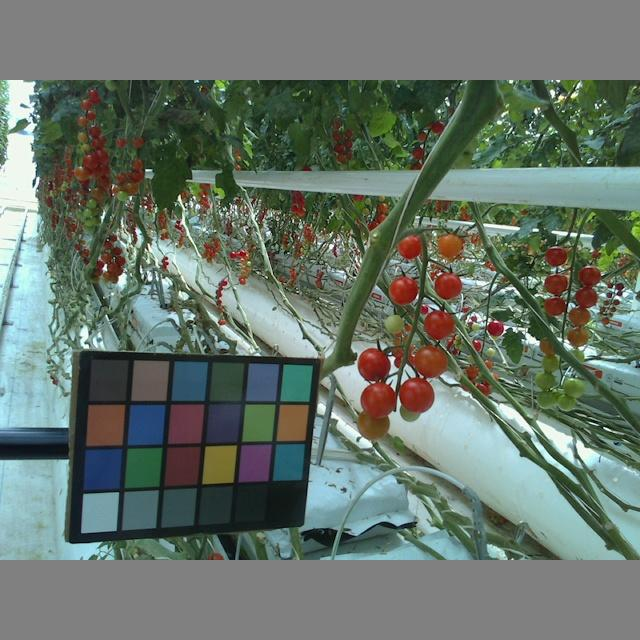green: (560, 377, 587, 398), (556, 392, 579, 415), (534, 371, 559, 392), (534, 388, 558, 409), (539, 353, 559, 371)
pink: (354, 404, 390, 440), (437, 233, 464, 257), (568, 322, 589, 347), (568, 306, 590, 326)
red: (360, 379, 396, 416), (411, 344, 449, 378), (400, 378, 434, 413), (358, 346, 391, 379), (387, 277, 421, 307), (423, 309, 455, 340), (432, 269, 462, 299), (396, 230, 425, 261), (543, 244, 566, 268), (544, 272, 567, 296), (578, 264, 602, 286), (543, 294, 565, 316), (576, 286, 597, 307)
